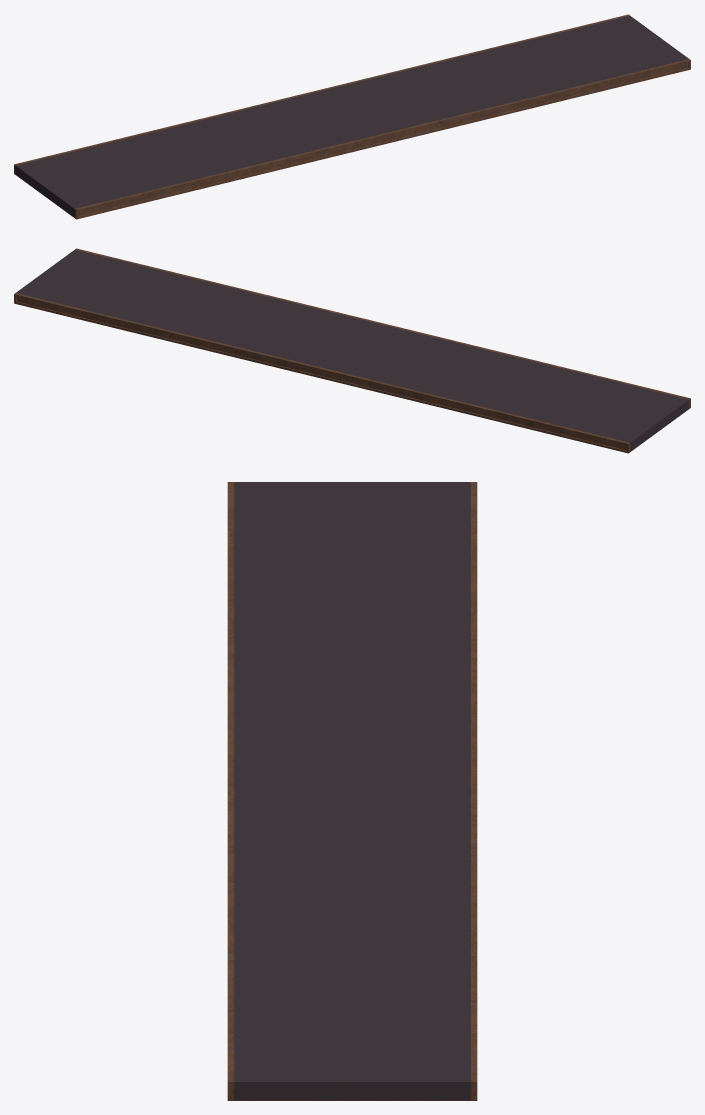
File: Conveyor Belt.fbx
3 renders of one model, top to bottom at view 1: azimuth 30°, elevation 25°; view 2: azimuth 150°, elevation 25°; view 3: azimuth 270°, elevation 25°, orthographic. The views are drawn at different scales.
Visible parts, largest first — view 1: Baked Conveyor Belt; view 2: Baked Conveyor Belt; view 3: Baked Conveyor Belt.
Part boxes in pixels (x1,y1,x2,y2): Baked Conveyor Belt: (14,14,690,219); Baked Conveyor Belt: (14,248,690,453); Baked Conveyor Belt: (227,482,477,1100).
Size of the model in its own units: 478 by 7.02 by 84.13.
Materials: 1 (1 with a texture image).
